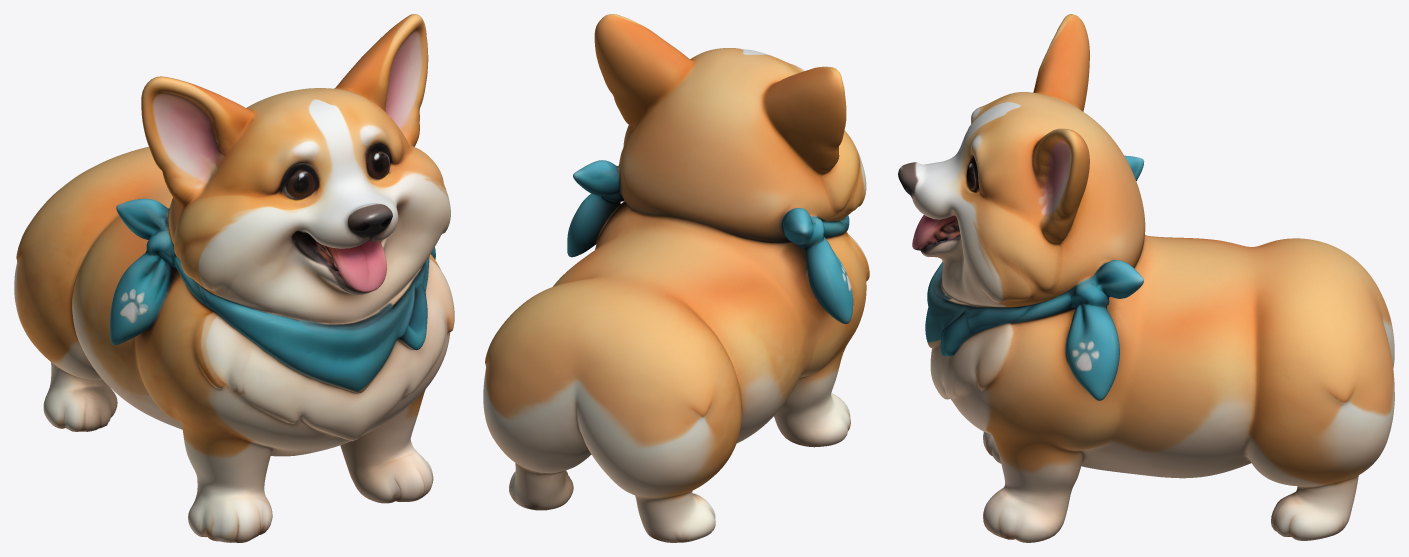
File: kaprao-rodin-original.glb
3 renders of one model, left to right at view 1: azimuth 30°, elevation 25°; view 2: azimuth 150°, elevation 25°; view 3: azimuth 270°, elevation 25°, orthographic. The views are drawn at different scales.
Parts seen in each view (by area): view 1: model; view 2: model; view 3: model.
Part boxes in pixels (x1=…): model: x1=14, y1=14, x2=454, y2=542; model: x1=483, y1=14, x2=869, y2=542; model: x1=898, y1=14, x2=1394, y2=542.
Size of the model in its own units: 1.29 by 1.71 by 1.84.
1 material, 1 textured.
